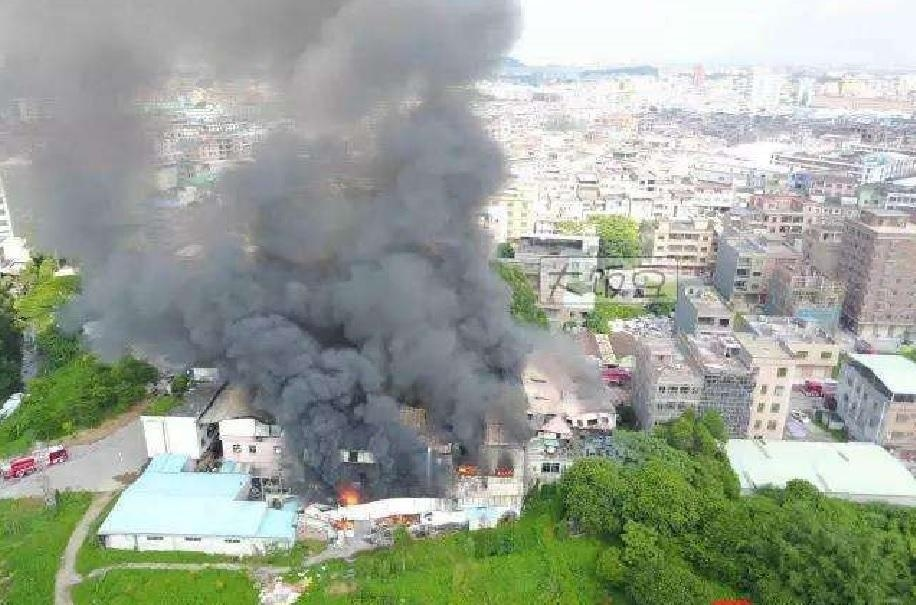fire: (336, 482, 362, 505)
